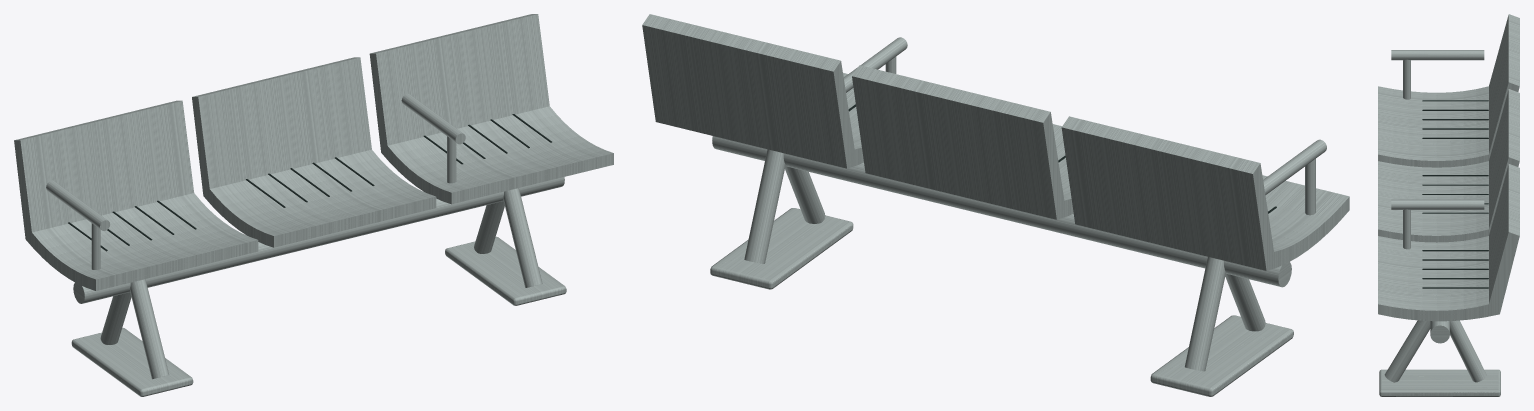
Rendered from detail-bench-metal-0.glb.
3 views of the same model, side by side, from view 1: azimuth 30°, elevation 25°; view 2: azimuth 150°, elevation 25°; view 3: azimuth 270°, elevation 25° (orthographic). The views are drawn at different scales.
Parts seen in each view (by area): view 1: curved_seat_back (×3), bolted_foot (×2), support_leg (×4), underseat_beam, arm_rest (×2); view 2: curved_seat_back (×3), bolted_foot (×2), underseat_beam, support_leg (×4), arm_rest (×2); view 3: curved_seat_back (×3), bolted_foot, support_leg (×2), arm_rest (×2), arm_support (×2), underseat_beam.
Boxes of the visible parts, <box> form: curved_seat_back (×3): <box>14,14,613,290</box>; bolted_foot (×2): <box>71,236,566,396</box>; support_leg (×4): <box>100,188,542,379</box>; underseat_beam: <box>73,177,564,303</box>; arm_rest (×2): <box>46,94,465,230</box>; curved_seat_back (×3): <box>642,14,1349,270</box>; bolted_foot (×2): <box>710,208,1293,396</box>; underseat_beam: <box>712,136,1291,287</box>; support_leg (×4): <box>744,149,1265,371</box>; arm_rest (×2): <box>844,37,1326,195</box>; curved_seat_back (×3): <box>1378,14,1519,321</box>; bolted_foot: <box>1379,369,1500,396</box>; support_leg (×2): <box>1384,320,1486,382</box>; arm_rest (×2): <box>1391,50,1484,209</box>; arm_support (×2): <box>1403,59,1410,249</box>; underseat_beam: <box>1430,321,1449,343</box>.
Bounding box in the file's own units: 2.33 × 0.9225 × 0.64.
2 materials, 2 textured.
